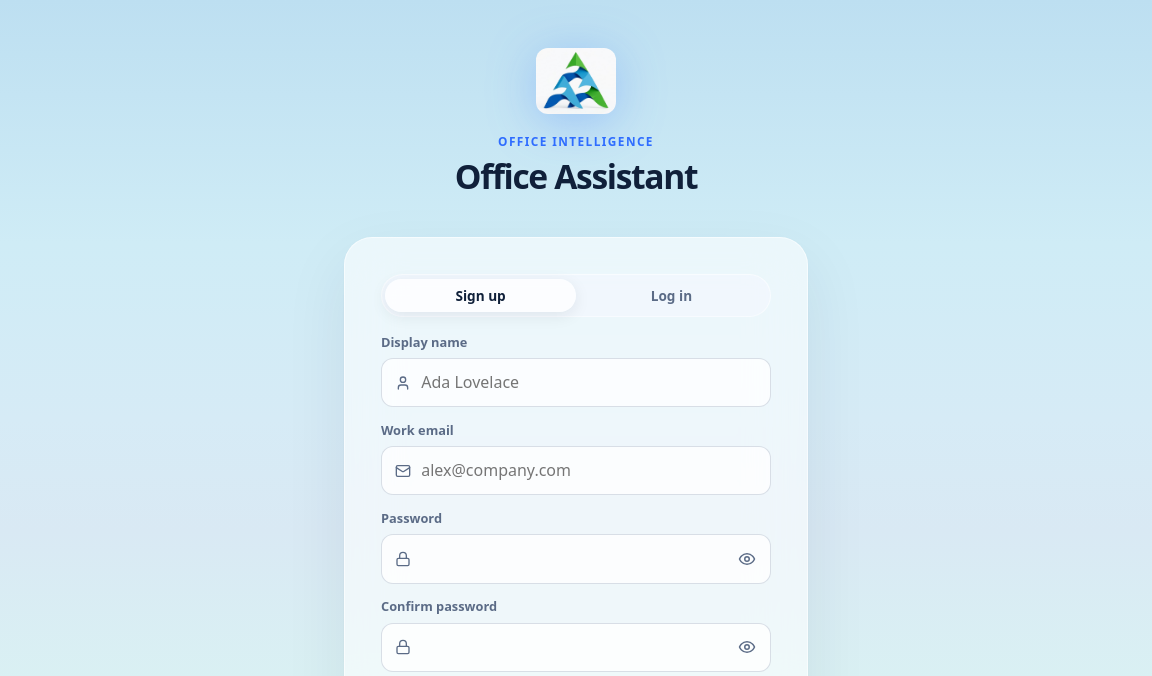
Test case: authentication › prevents signup when confirm password does not match
In the field labelled "Display name": x=576, y=383 [381,358,771,407], type "Ada"
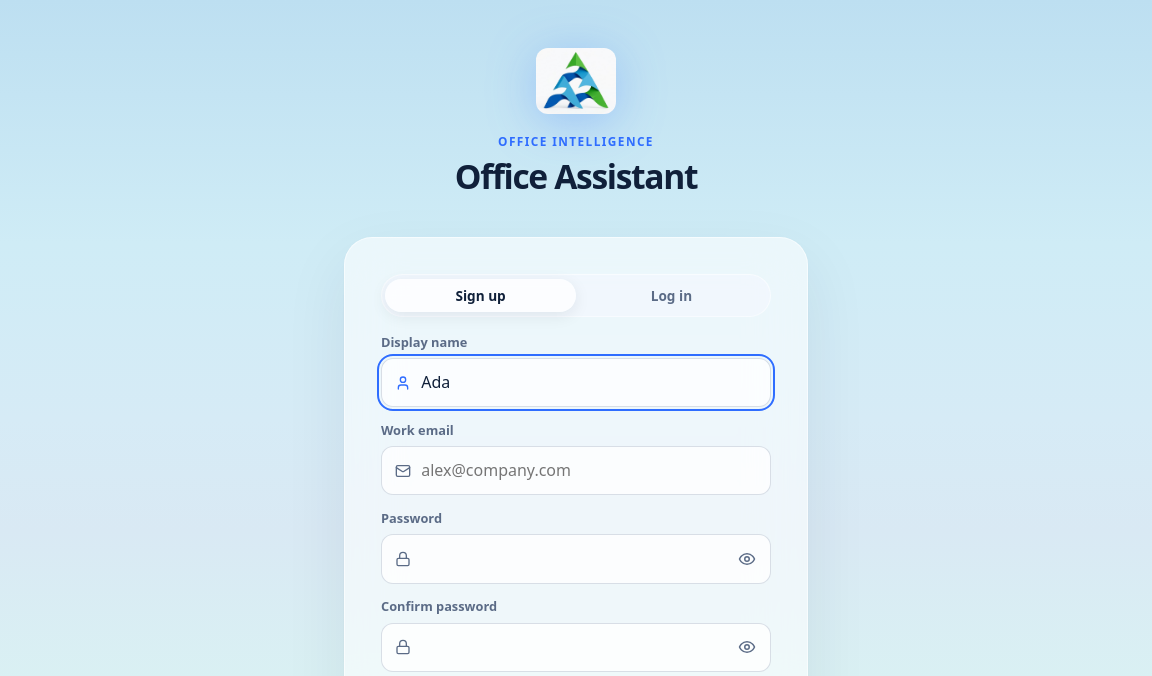
In the field labelled "Work email": x=576, y=471 [381,446,771,496], type "ada@example.com"
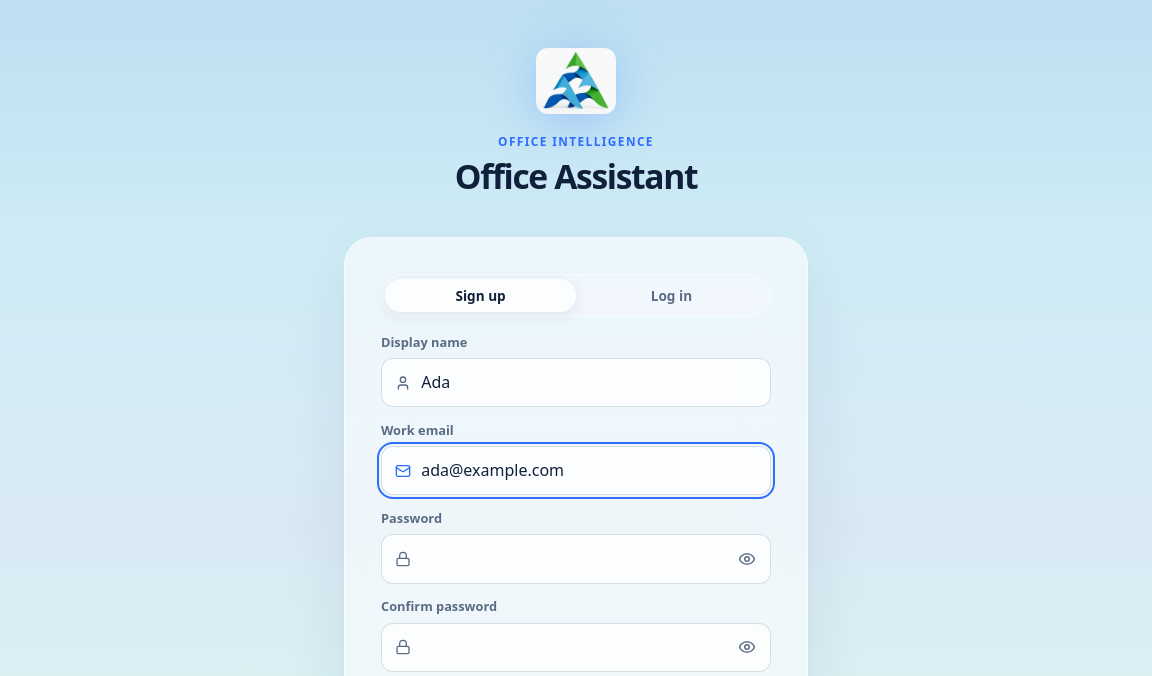
In the password field labelled "Password": x=576, y=559 [381,534,771,584], type "Password12!"
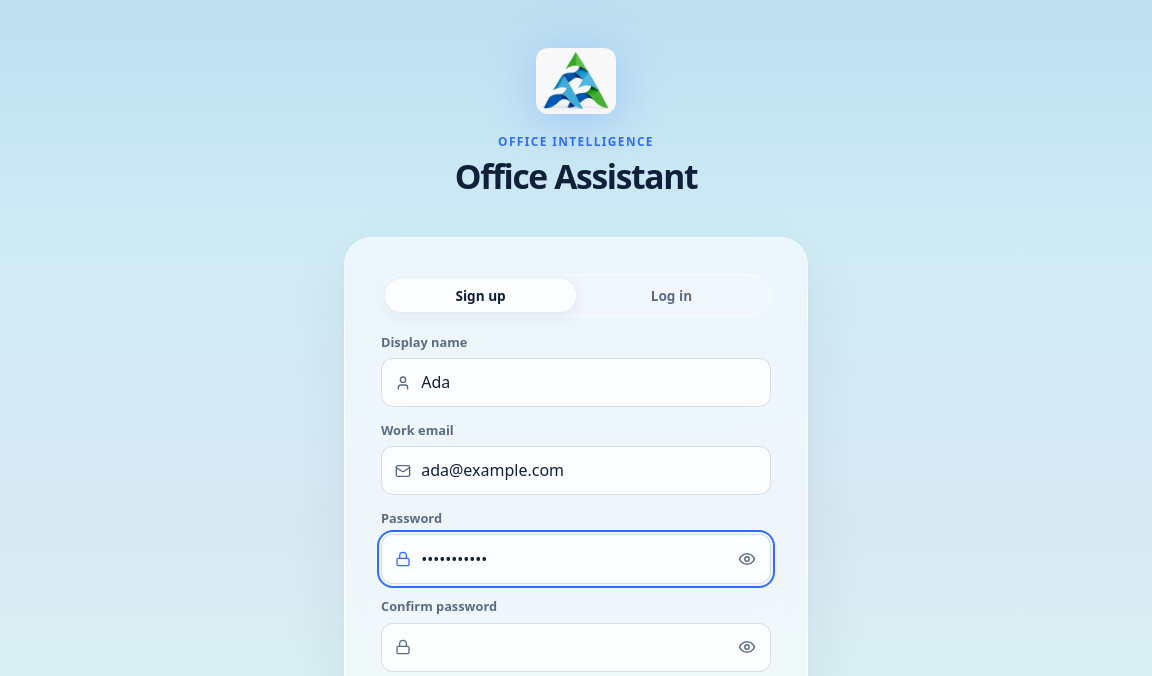
In the password field labelled "Confirm password": x=576, y=647 [381,623,771,672], type "Different12!"
(page scrolled)
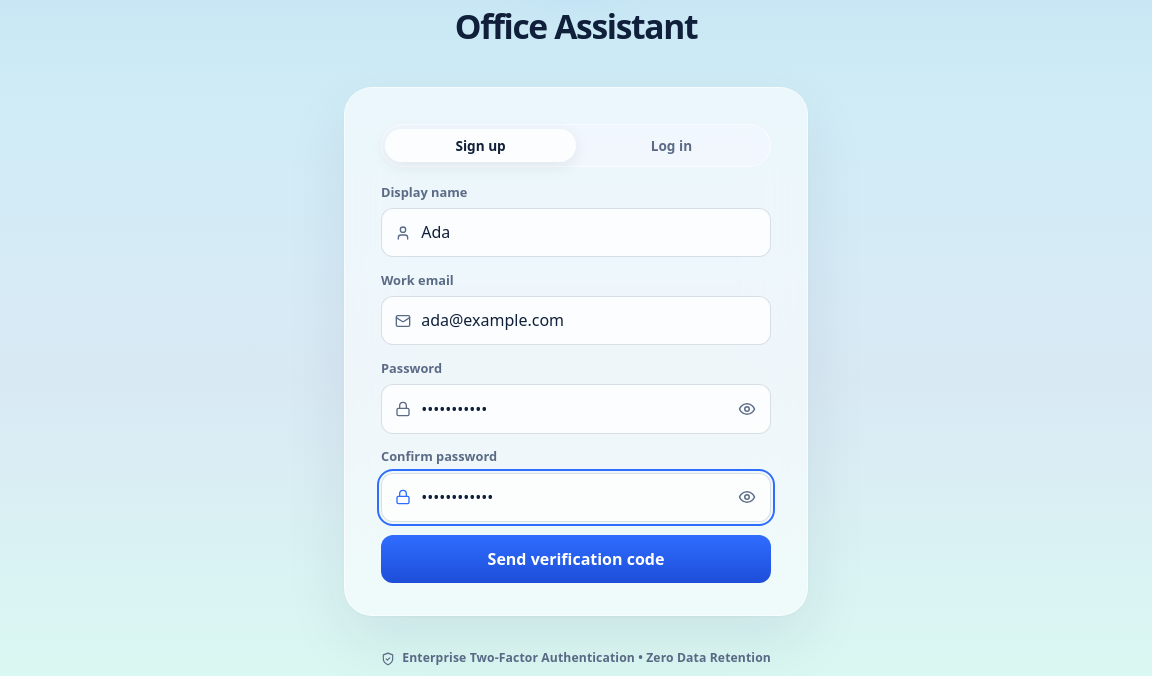
Click the button "Send verification code": x=576, y=559 [381,535,771,583]
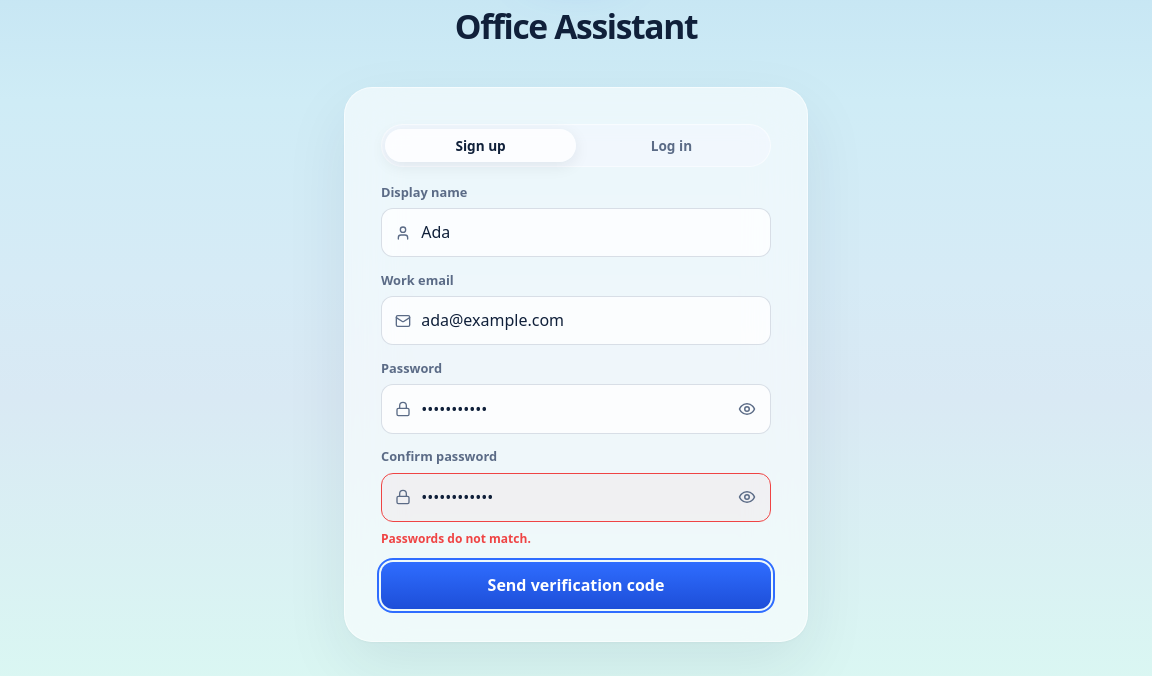
Result: the text "Passwords do not match." is shown at [381,530,531,547]
